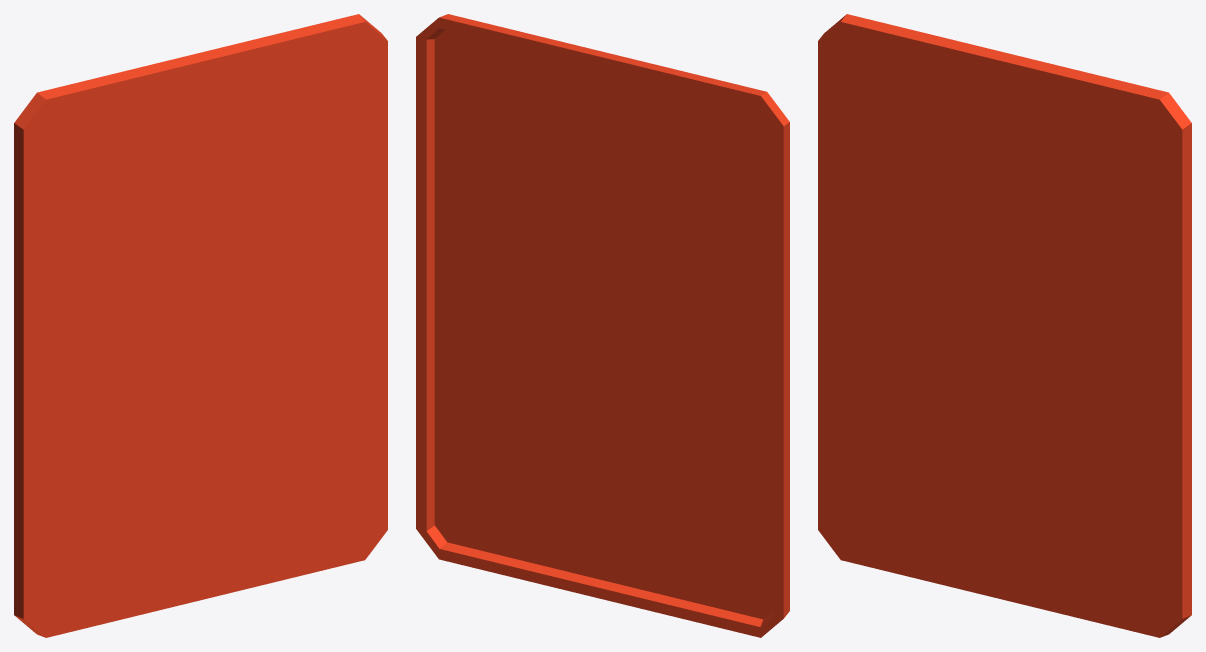
The model's file is SM_Sign_Speed_25_A_City.fbx.
The picture shows the model from 3 angles, left to right: view 1: azimuth 30°, elevation 25°; view 2: azimuth 150°, elevation 25°; view 3: azimuth 330°, elevation 25°; orthographic projection.
Visible parts, largest first — view 1: SM_Sign_Speed_25_A_City; view 2: SM_Sign_Speed_25_A_City; view 3: SM_Sign_Speed_25_A_City.
Part boxes in pixels (box(x1,y1,x2,y2)): SM_Sign_Speed_25_A_City: box(14, 14, 387, 637); SM_Sign_Speed_25_A_City: box(416, 14, 789, 637); SM_Sign_Speed_25_A_City: box(818, 14, 1191, 637).
Size of the model in its own units: 0.5876 by 0.8275 by 0.0215.
